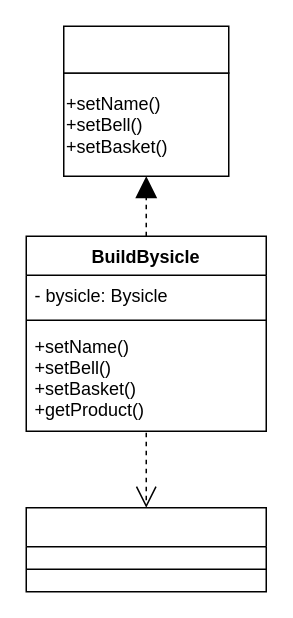
Some shapes in this 293 by 618 pixel diagram are drawn without their labels. Each missing label, with the centre of its shape:
"Bysicle" belongs at point (145, 549).
"«interface» IBuilder" belongs at point (145, 49).
